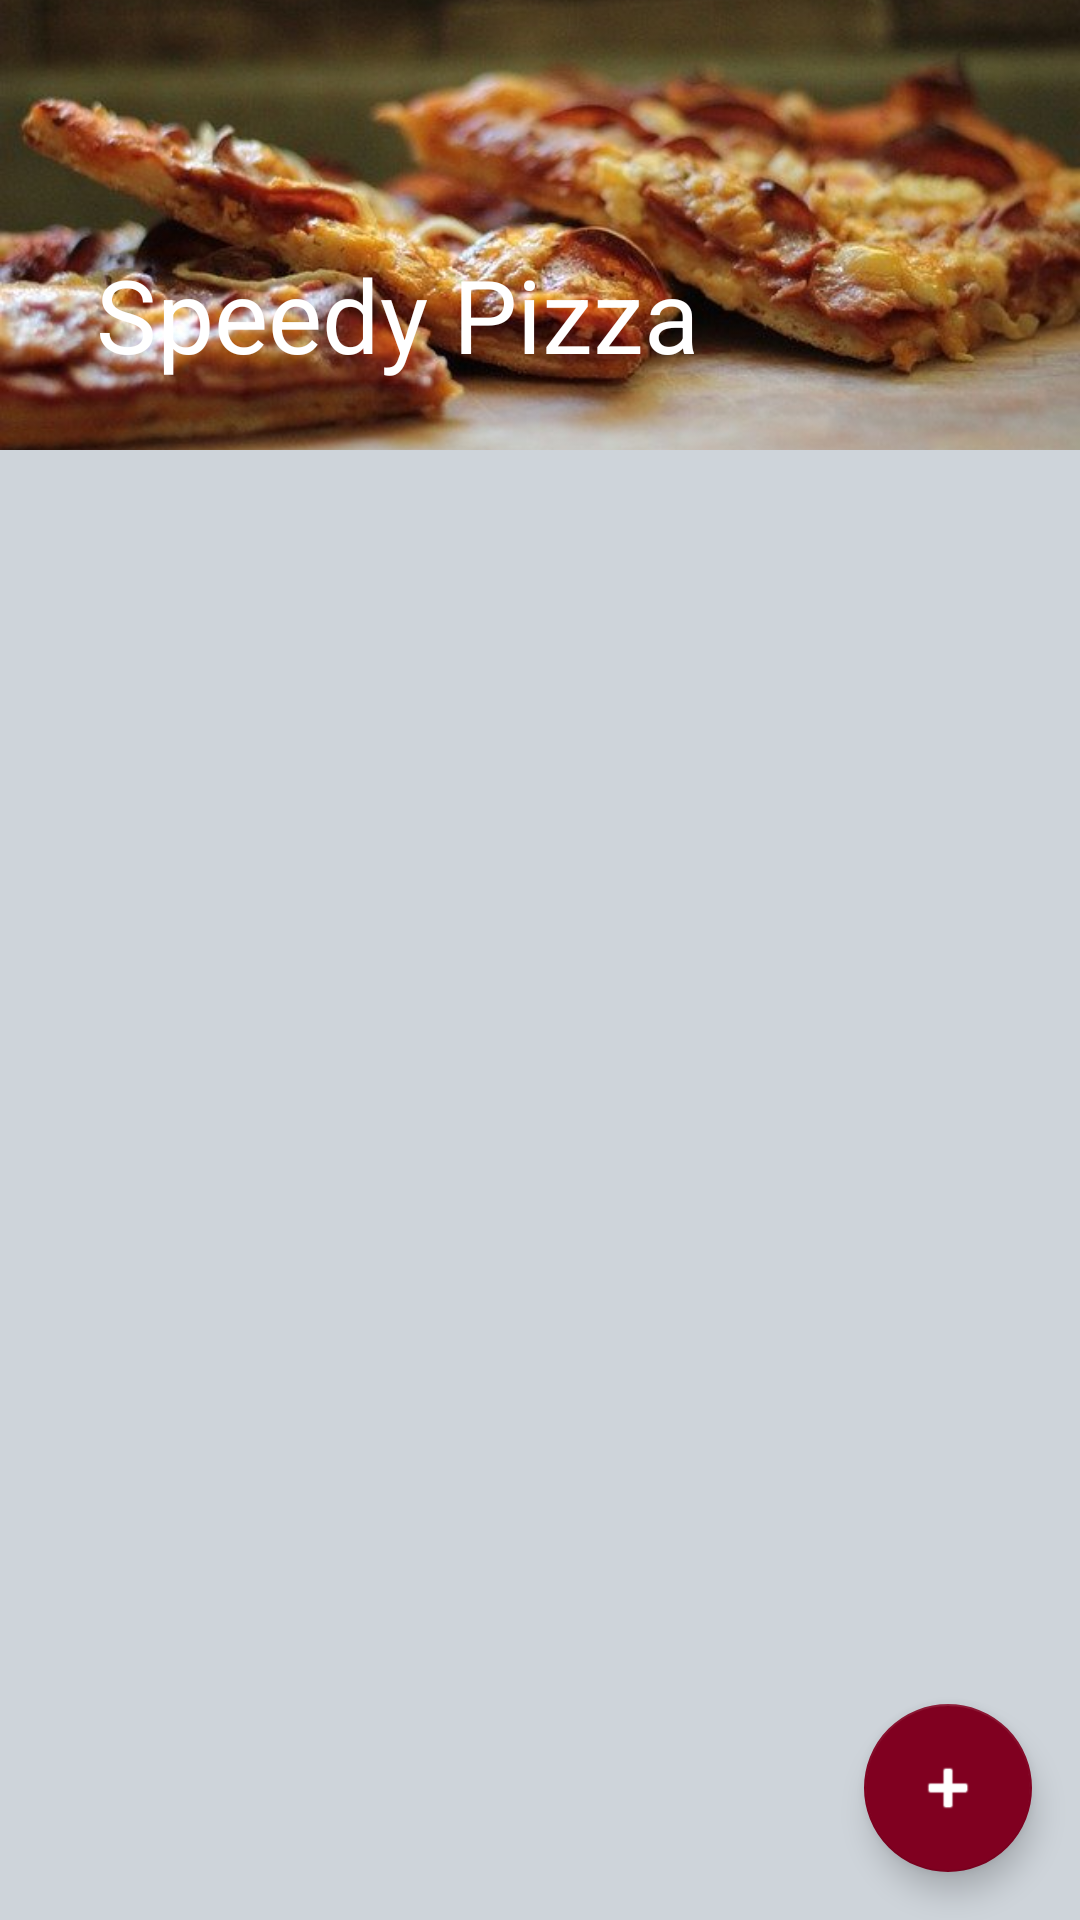

Screen size 1080px x 1920px. Icon name, then its center in pixels as (x=x, y=y):
Agregar orden: (x=948, y=1788)
